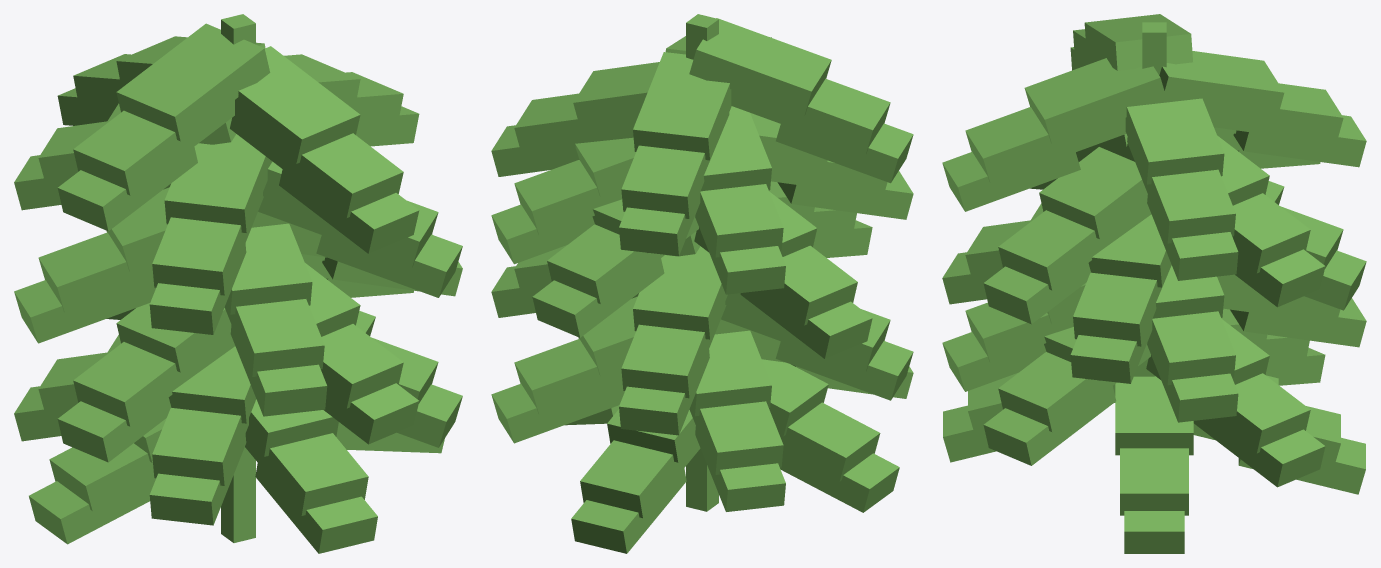
File: SM_Plant_01_D.fbx
The picture shows the model from 3 angles, left to right: view 1: azimuth 30°, elevation 25°; view 2: azimuth 150°, elevation 25°; view 3: azimuth 270°, elevation 25°; orthographic projection. The views are drawn at different scales.
Visible parts, largest first — view 1: pCube410; view 2: pCube410; view 3: pCube410.
Part boxes in pixels (x1=…): pCube410: x1=14, y1=14, x2=462, y2=553; pCube410: x1=491, y1=14, x2=913, y2=553; pCube410: x1=942, y1=14, x2=1366, y2=553.
Bounding box in the file's own units: 63.66 × 80.48 × 63.66.
